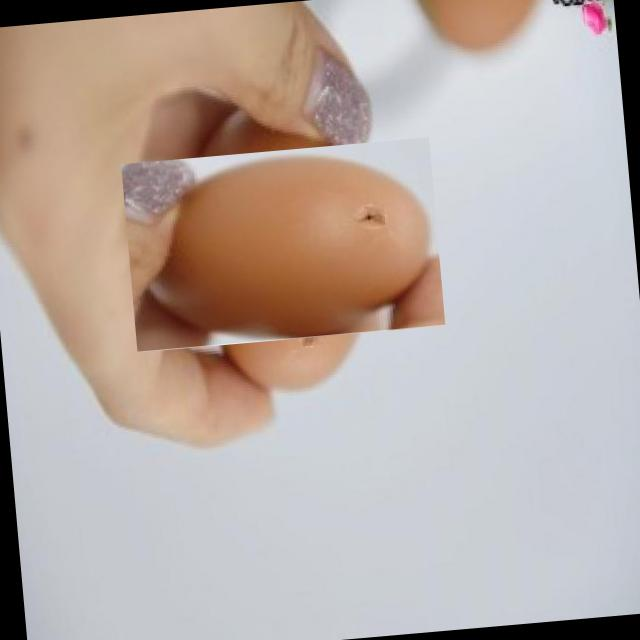eggs: (148, 109, 418, 379)
